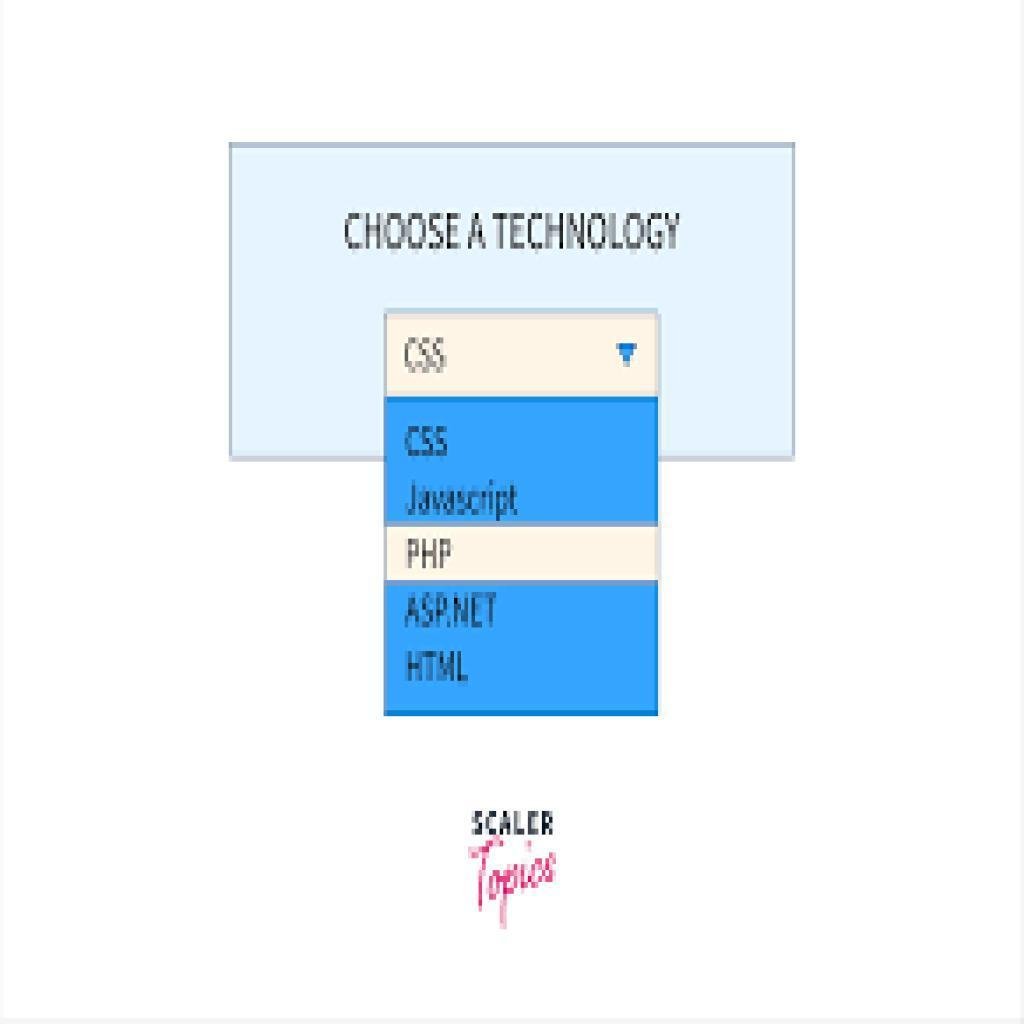button: (386, 527, 657, 580)
dropdown: (383, 307, 660, 399)
label: (340, 199, 686, 254)
